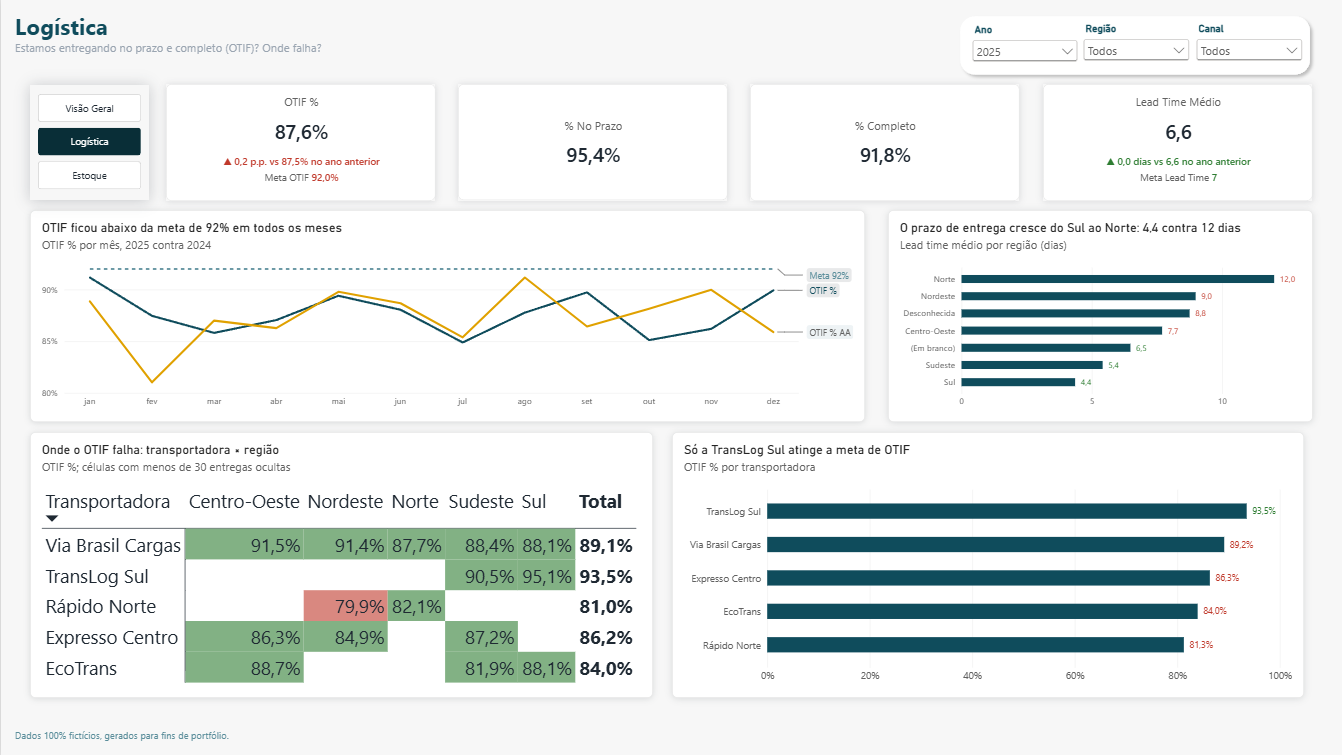

This screenshot's page, from the dashboard's own definition file:
{"tool":"powerbi","page":{"name":"Logística","canvas":[1920,1080],"ordinal":1},"visuals":[{"type":"shape","box":[1361.5,14.7,517.4,101.1],"z":0,"group":"g1"},{"type":"textbox","box":[20,1040,496.1,26.6],"z":0},{"type":"textbox","box":[20.6,14.2,659.5,68],"z":1000},{"type":"lineChart","title":"OTIF ficou abaixo da meta de 92% em todos os meses","fields":{"Category":["dCalendario.Mes"],"Y":["_Medidas.OTIF %","_Medidas.Meta OTIF","_Medidas.OTIF % AA"]},"box":[41.7,300,1193.3,303.3],"z":2000},{"type":"barChart","title":"Só a TransLog Sul atinge a meta de OTIF","fields":{"Category":["fEntregas.transportadora"],"Y":["_Medidas.OTIF %"]},"box":[958.3,616.7,903.3,380],"z":3000},{"type":"barChart","title":"O prazo de entrega cresce do Sul ao Norte: 4,4 contra 12 dias","fields":{"Category":["dClientes.regiao"],"Y":["_Medidas.Lead Time Médio"]},"box":[1266.7,300,606.7,303.3],"z":4000},{"type":"cardVisual","fields":{"Data":["_Medidas.% No Prazo"]},"box":[653.3,120,385,166.7],"z":5000},{"type":"group","id":"g1","title":"Grupo 1","box":[1361.5,14.7,517.4,101.1],"z":6000},{"type":"cardVisual","fields":{"Data":["_Medidas.Lead Time Médio"]},"box":[1488.3,120,385,167],"z":7000},{"type":"shape","box":[41.2,121,170.2,164.9],"z":8000},{"type":"cardVisual","title":"Pedidos","fields":{"Data":["_Medidas.% Completo"]},"box":[1070,120,385,167],"z":9000},{"type":"slicer","fields":{"Values":["dClientes.canal"]},"box":[1702.3,34,160.6,60.4],"z":10000,"group":"g1"},{"type":"cardVisual","fields":{"Data":["_Medidas.OTIF %"]},"box":[235.4,120.3,385,167],"z":10000},{"type":"slicer","fields":{"Values":["dClientes.regiao"]},"box":[1541.7,34,160.6,60.4],"z":11000,"group":"g1"},{"type":"pageNavigator","box":[53,134.1,147.4,138.5],"z":11000},{"type":"pivotTable","title":"Onde o OTIF falha: transportadora × região","fields":{"Columns":["dClientes.regiao"],"Rows":["fEntregas.transportadora"],"Values":["_Medidas.OTIF %"]},"box":[41.7,616.7,890,380],"z":12000},{"type":"slicer","fields":{"Values":["dCalendario.Ano"]},"box":[1383.2,34.7,160,60],"z":14000,"group":"g1"}]}

Visuals, with their boxes in screenshot pixels (x1, y1, x2, y2), scaled from the page's 1920x1080 canvas onto the 1342x755 screenshot:
shape: region(952, 10, 1313, 81)
textbox: region(14, 727, 361, 746)
textbox: region(14, 10, 475, 57)
"OTIF ficou abaixo da meta de 92% em todos os meses" lineChart: region(29, 210, 863, 422)
"Só a TransLog Sul atinge a meta de OTIF" barChart: region(670, 431, 1301, 697)
"O prazo de entrega cresce do Sul ao Norte: 4,4 contra 12 dias" barChart: region(885, 210, 1309, 422)
cardVisual - _Medidas.% No Prazo: region(457, 84, 726, 200)
"Grupo 1" group: region(952, 10, 1313, 81)
cardVisual - _Medidas.Lead Time Médio: region(1040, 84, 1309, 201)
shape: region(29, 85, 148, 200)
"Pedidos" cardVisual: region(748, 84, 1017, 201)
slicer - dClientes.canal: region(1190, 24, 1302, 66)
cardVisual - _Medidas.OTIF %: region(165, 84, 434, 201)
slicer - dClientes.regiao: region(1078, 24, 1190, 66)
pageNavigator: region(37, 94, 140, 191)
"Onde o OTIF falha: transportadora × região" pivotTable: region(29, 431, 651, 697)
slicer - dCalendario.Ano: region(967, 24, 1079, 66)
